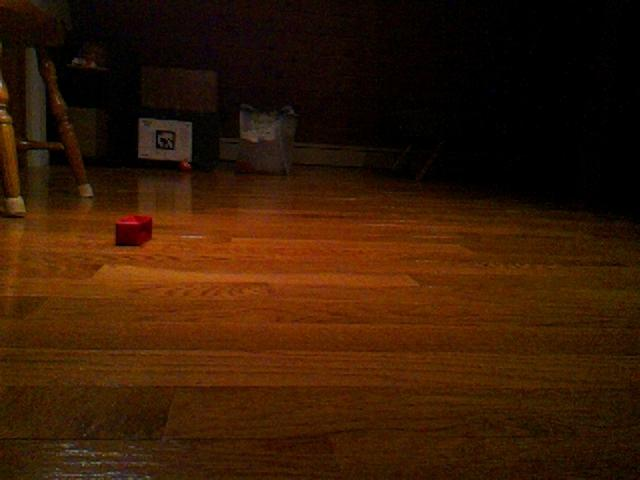red: (114, 213, 154, 247)
